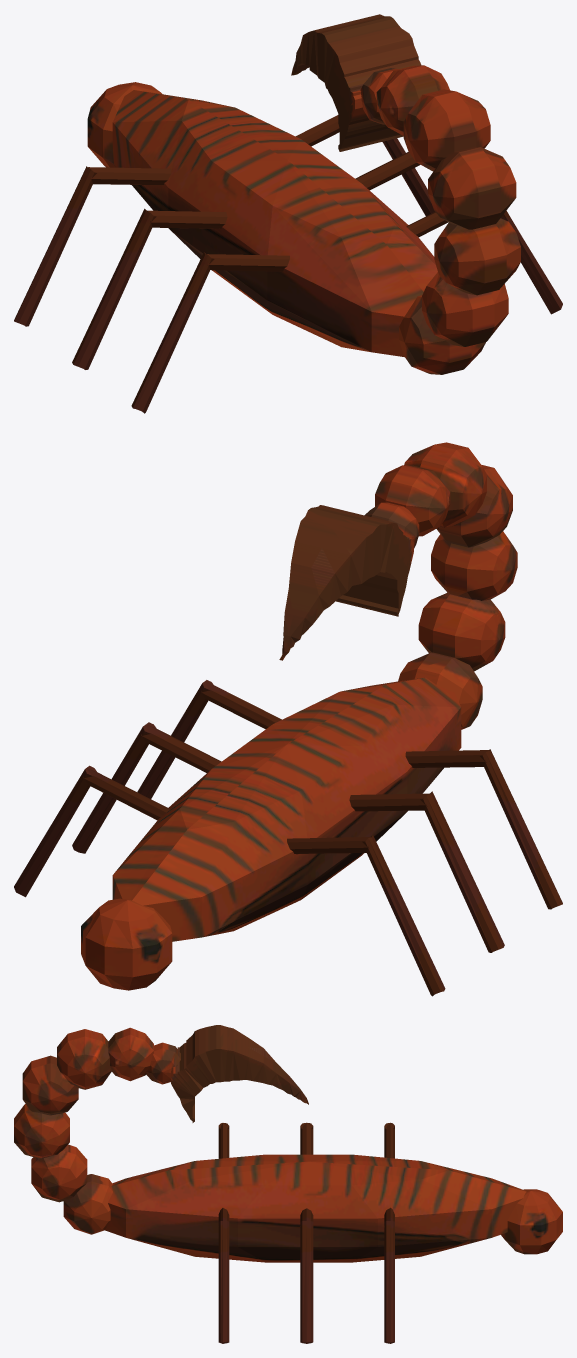
File: Scorp.glb
The picture shows the model from 3 angles, top to bottom: view 1: azimuth 30°, elevation 25°; view 2: azimuth 150°, elevation 25°; view 3: azimuth 270°, elevation 25°; orthographic projection. The views are drawn at different scales.
Parts seen in each view (by area): view 1: Scorp; view 2: Scorp; view 3: Scorp.
Boxes of the visible parts, x1=… form: Scorp: x1=14, y1=14, x2=562, y2=413; Scorp: x1=14, y1=442, x2=562, y2=996; Scorp: x1=14, y1=1025, x2=562, y2=1343.
Size of the model in its own units: 130 by 99.56 by 204.
Materials: 1 (1 with a texture image).
